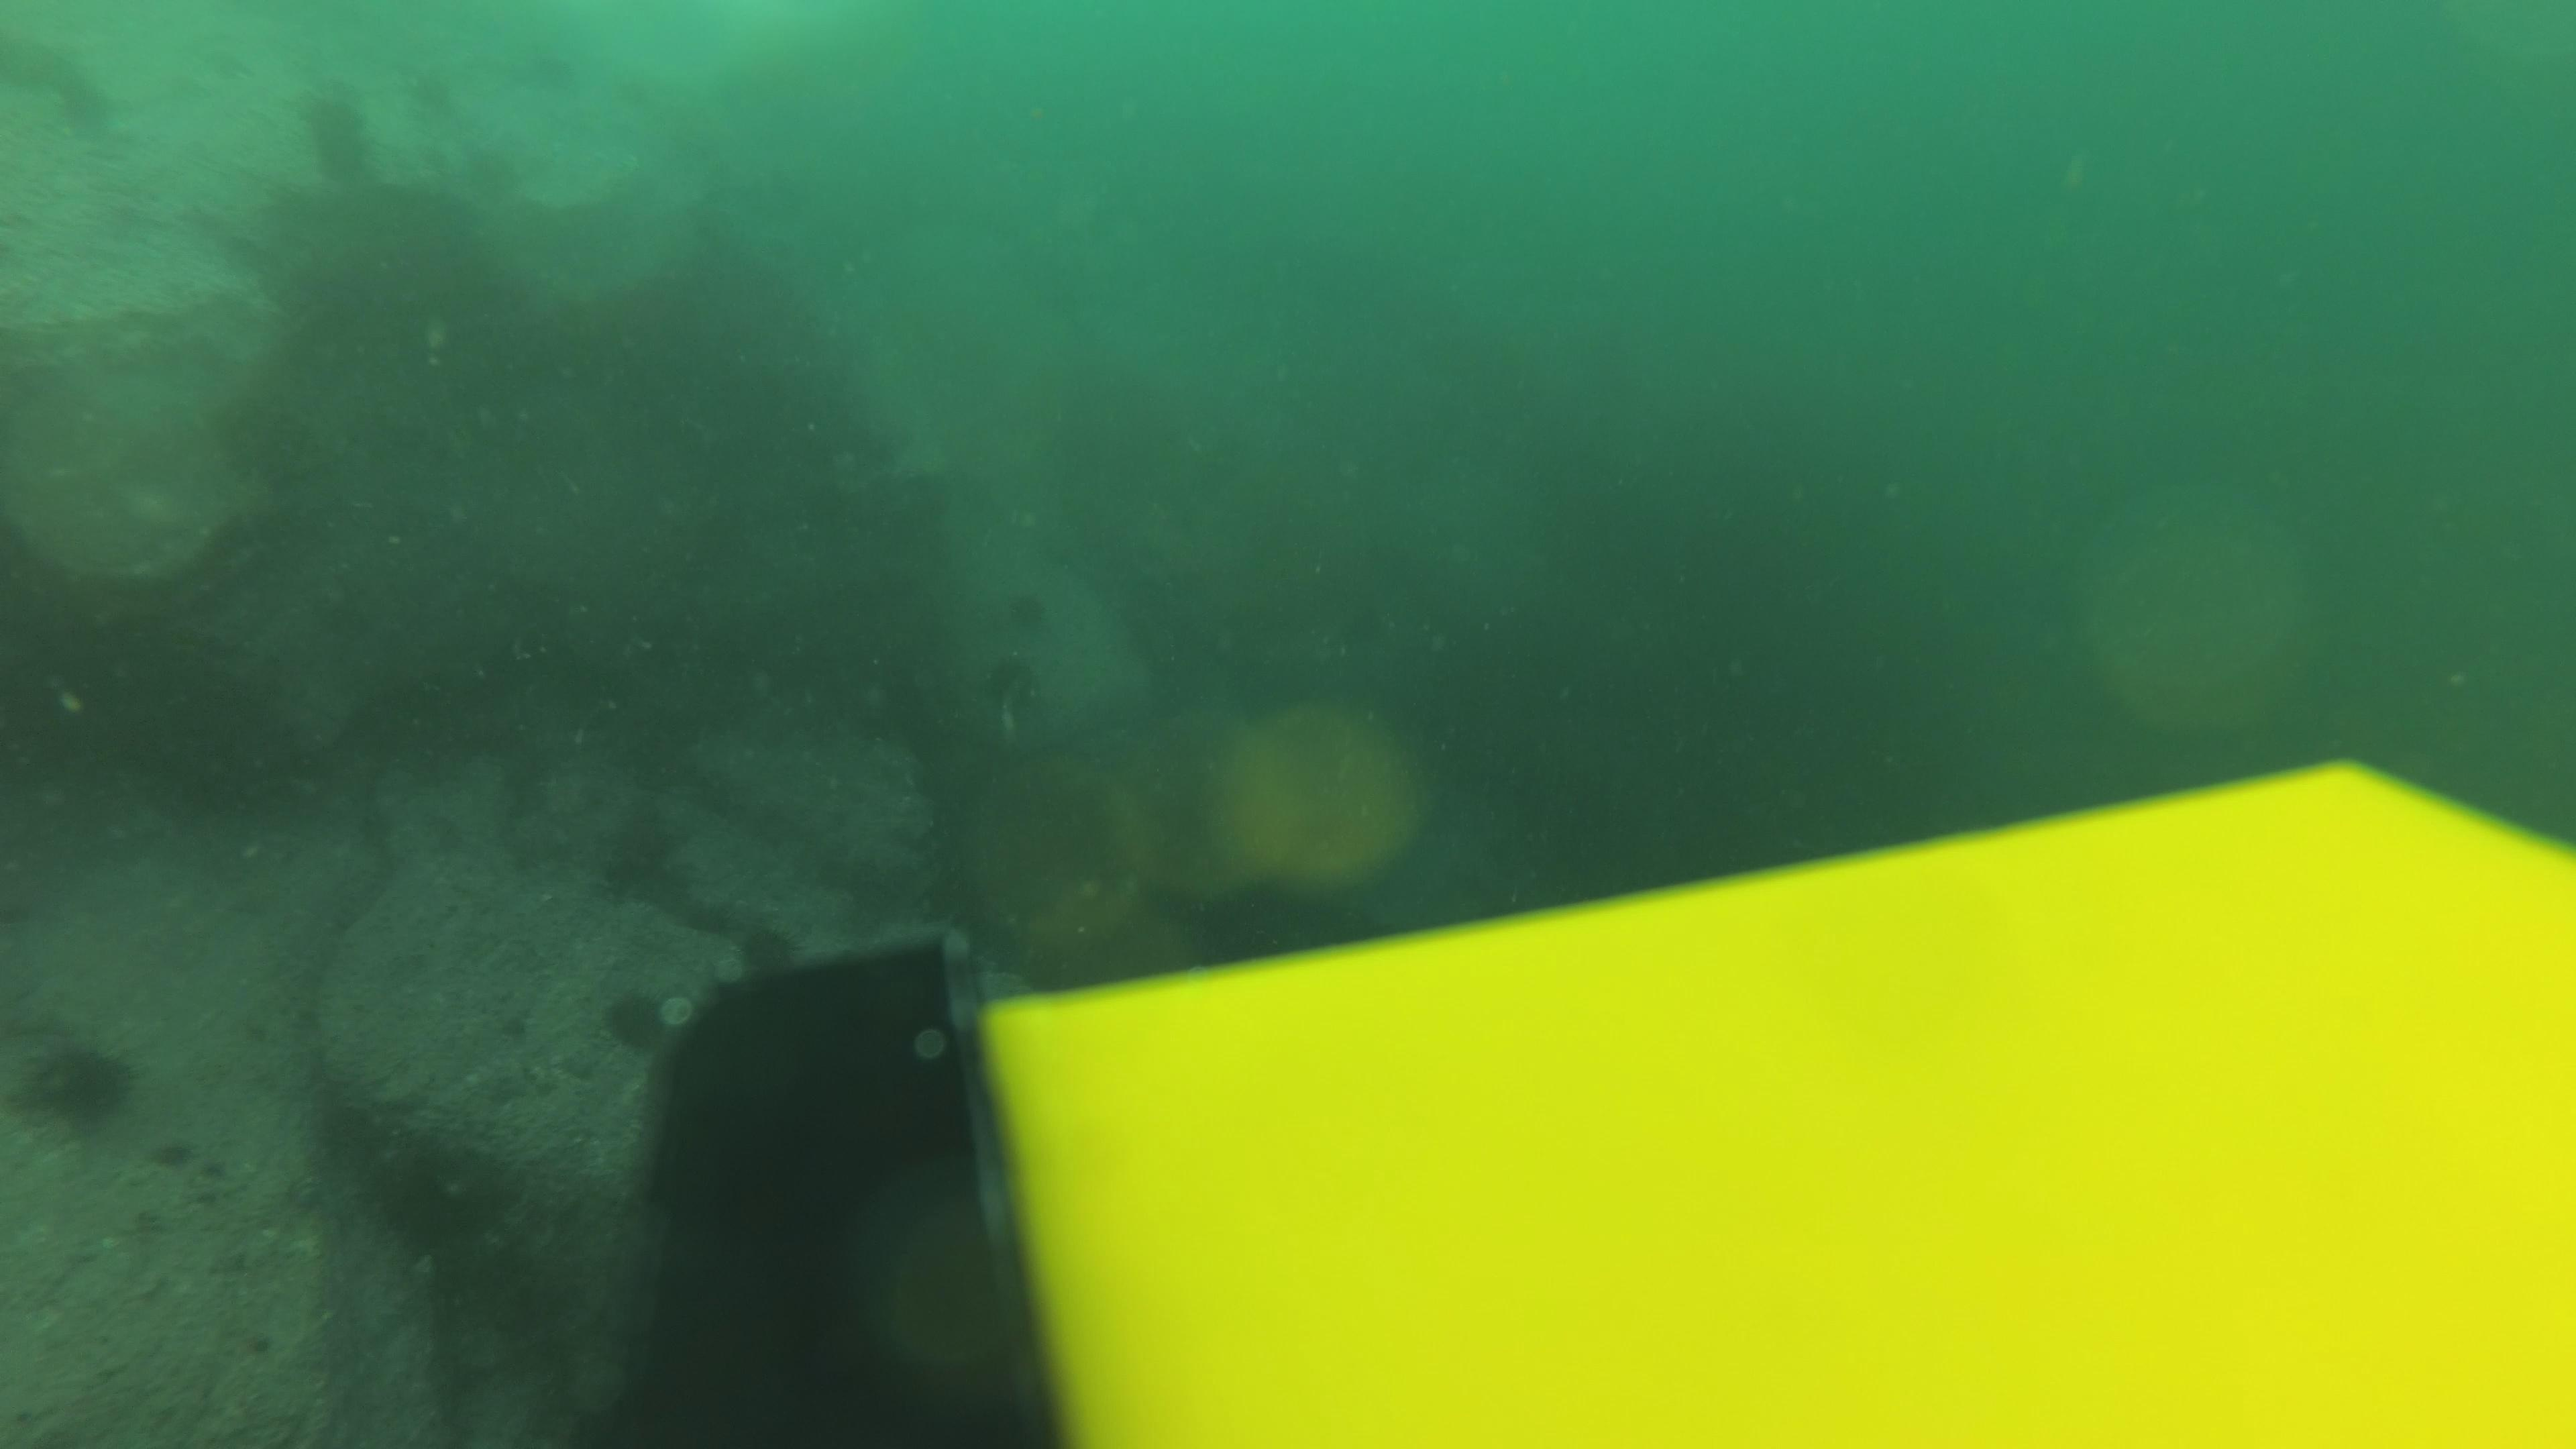echinus: (370, 1141, 510, 1258), (16, 1028, 143, 1136), (591, 805, 692, 902), (292, 81, 382, 184), (594, 980, 679, 1058), (984, 586, 1058, 651), (966, 656, 1039, 722), (731, 916, 803, 980)
